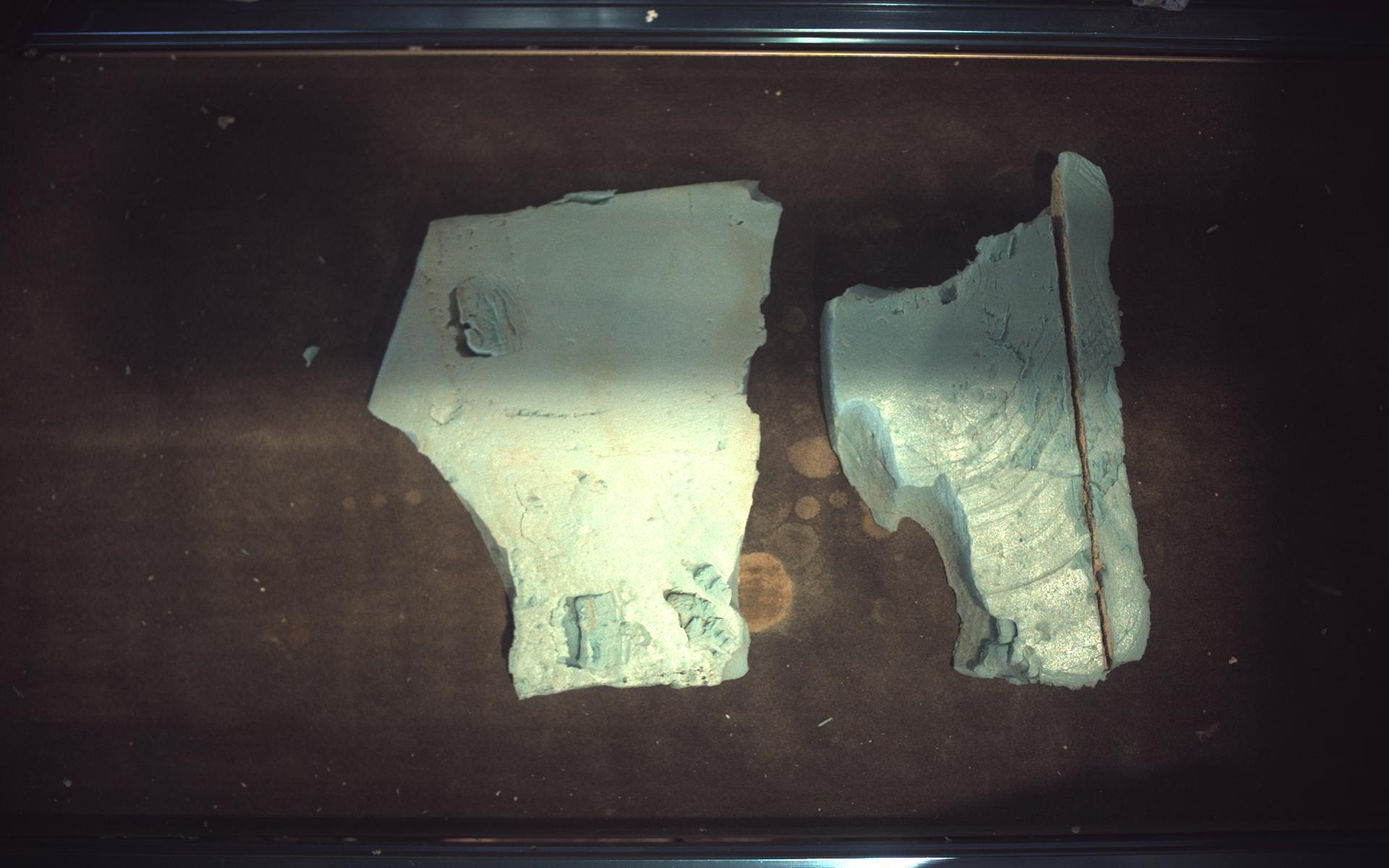foam: (370, 182, 782, 699), (823, 151, 1152, 689)
